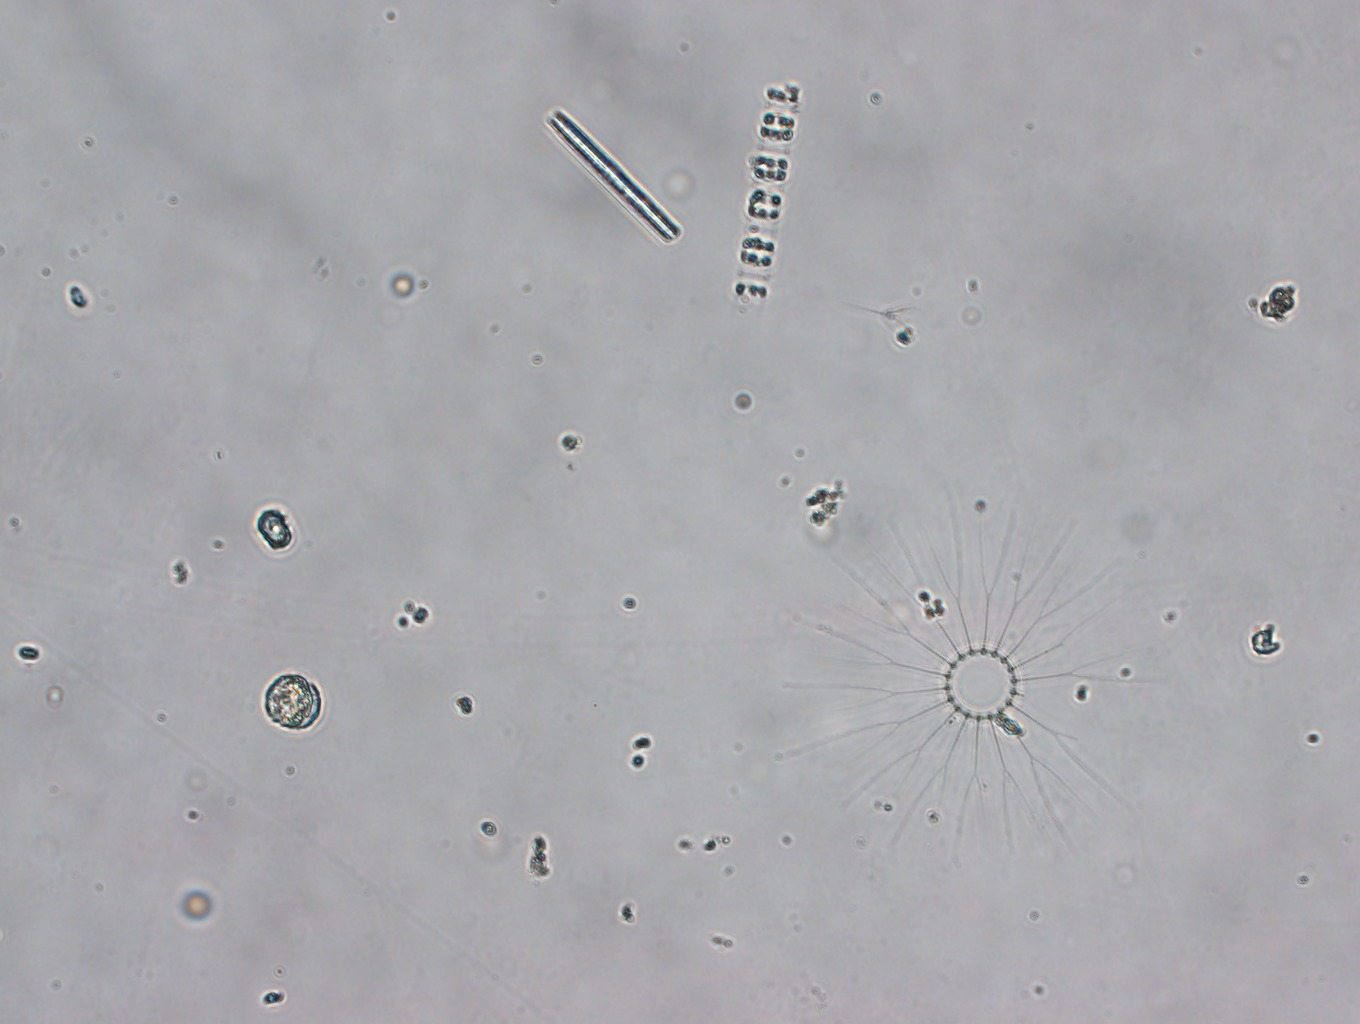bacteriastrum: (777, 490, 1170, 865)
skeletonema: (732, 79, 802, 307)
